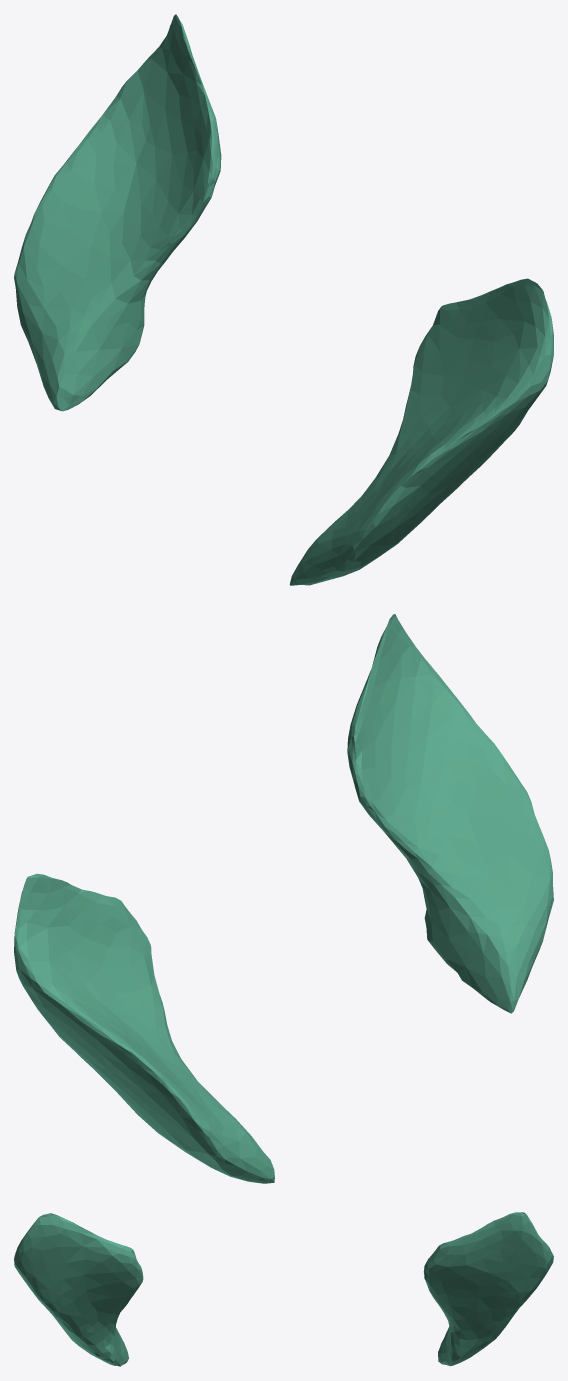
The picture shows the model from 3 angles, top to bottom: view 1: azimuth 30°, elevation 25°; view 2: azimuth 150°, elevation 25°; view 3: azimuth 270°, elevation 25°; orthographic projection. The views are drawn at different scales.
Visible parts, largest first — view 1: 440.obj; view 2: 440.obj; view 3: 440.obj.
Boxes of the visible parts, x1,y1,x2,y2 form: 440.obj: [14, 14, 553, 585]; 440.obj: [14, 614, 553, 1183]; 440.obj: [14, 1212, 553, 1366].
Size of the model in its own units: 1072 by 1679 by 4003.
